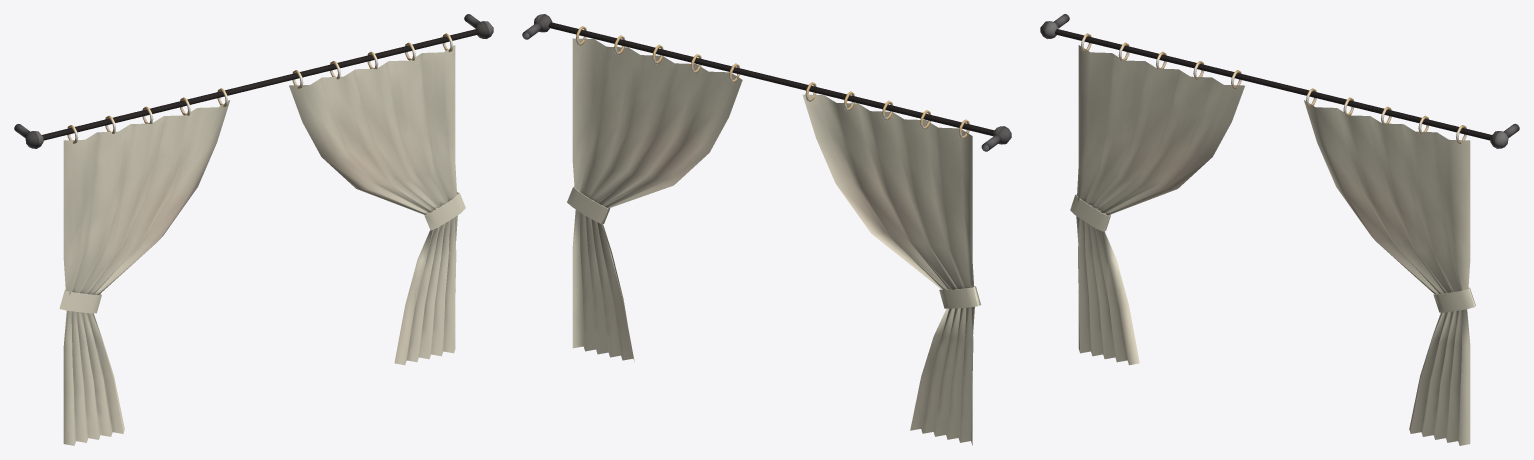
Rendered from Curtain.fbx.
3 views of the same model, side by side, from view 1: azimuth 30°, elevation 25°; view 2: azimuth 150°, elevation 25°; view 3: azimuth 330°, elevation 25° (orthographic). The views are drawn at different scales.
Parts seen in each view (by area): view 1: Curtain_L, Curtain_R, Rail, Bundle_L, Bundle_R; view 2: Curtain_R, Curtain_L, Rail, Bundle_R, Bundle_L; view 3: Curtain_R, Curtain_L, Rail, Bundle_R, Bundle_L.
Part boxes in pixels (x1,y1,x2,y2): Curtain_L: [63, 100, 230, 445]; Curtain_R: [289, 45, 457, 365]; Rail: [42, 29, 478, 140]; Bundle_L: [59, 290, 101, 313]; Bundle_R: [424, 192, 465, 230]; Curtain_R: [572, 38, 742, 361]; Curtain_L: [802, 94, 974, 445]; Rail: [548, 22, 994, 135]; Bundle_R: [567, 185, 610, 223]; Bundle_L: [939, 286, 980, 308]; Curtain_R: [1304, 100, 1470, 445]; Curtain_L: [1076, 45, 1244, 365]; Rail: [1055, 29, 1491, 140]; Bundle_R: [1433, 287, 1475, 312]; Bundle_L: [1070, 194, 1111, 231].
Size of the model in its own units: 22.06 by 14.49 by 1.81.
1 material, 1 textured.
